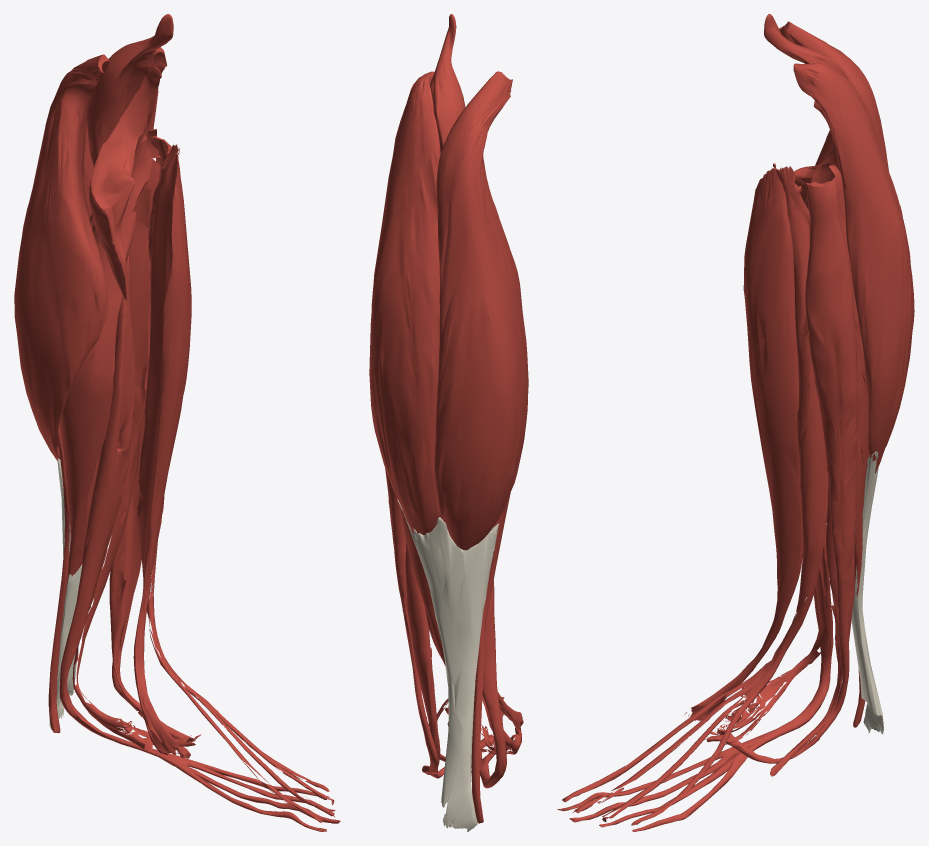
The model's file is calfm.glb.
3 views of the same model, side by side, from view 1: azimuth 30°, elevation 25°; view 2: azimuth 150°, elevation 25°; view 3: azimuth 270°, elevation 25° (orthographic). The views are drawn at different scales.
Parts seen in each view (by area): view 1: medial head of left gastrocnemius, left tibialis anterior, left flexor digitorum longus, left soleus, left tibialis posterior, left popliteus, left plantaris, left extensor digitorum longus, left fibularis brevis, lateral head of left gastrocnemius, left calcaneal tendon, left fibularis longus; view 2: medial head of left gastrocnemius, lateral head of left gastrocnemius, left calcaneal tendon, left plantaris, left fibularis brevis, left flexor digitorum longus, left fibularis longus, left soleus, left tibialis posterior, left tibialis anterior; view 3: lateral head of left gastrocnemius, left tibialis anterior, left fibularis longus, left extensor digitorum longus, left flexor digitorum longus, left soleus, left calcaneal tendon, medial head of left gastrocnemius, left tibialis posterior, left fibularis brevis, left plantaris, left popliteus.
Part boxes in pixels (bbox=[...]): medial head of left gastrocnemius: bbox=[14, 54, 109, 460]; left tibialis anterior: bbox=[133, 153, 191, 756]; left flexor digitorum longus: bbox=[59, 252, 340, 831]; left soleus: bbox=[59, 129, 161, 583]; left tibialis posterior: bbox=[72, 180, 201, 756]; left popliteus: bbox=[89, 65, 161, 299]; left plantaris: bbox=[48, 14, 173, 733]; left extensor digitorum longus: bbox=[146, 144, 334, 822]; left fibularis brevis: bbox=[109, 389, 195, 742]; lateral head of left gastrocnemius: bbox=[82, 47, 167, 218]; left calcaneal tendon: bbox=[49, 458, 82, 729]; left fibularis longus: bbox=[112, 136, 190, 758]; medial head of left gastrocnemius: bbox=[434, 71, 528, 550]; lateral head of left gastrocnemius: bbox=[369, 71, 440, 535]; left calcaneal tendon: bbox=[397, 499, 498, 831]; left plantaris: bbox=[430, 14, 498, 823]; left fibularis brevis: bbox=[405, 542, 440, 774]; left flexor digitorum longus: bbox=[424, 581, 506, 788]; left fibularis longus: bbox=[385, 468, 494, 778]; left soleus: bbox=[399, 493, 510, 665]; left tibialis posterior: bbox=[439, 512, 521, 754]; left tibialis anterior: bbox=[498, 692, 523, 735]; lateral head of left gastrocnemius: bbox=[793, 63, 914, 473]; left tibialis anterior: bbox=[684, 168, 803, 721]; left fibularis longus: bbox=[705, 177, 857, 763]; left extensor digitorum longus: bbox=[562, 162, 828, 825]; left flexor digitorum longus: bbox=[557, 521, 833, 831]; left soleus: bbox=[804, 161, 868, 597]; left calcaneal tendon: bbox=[851, 451, 883, 734]; medial head of left gastrocnemius: bbox=[779, 21, 888, 463]; left tibialis posterior: bbox=[710, 315, 827, 744]; left fibularis brevis: bbox=[770, 476, 854, 776]; left plantaris: bbox=[764, 14, 865, 727]; left popliteus: bbox=[794, 100, 840, 202].
Size of the model in its own units: 0.1443 by 0.5279 by 0.2206.
